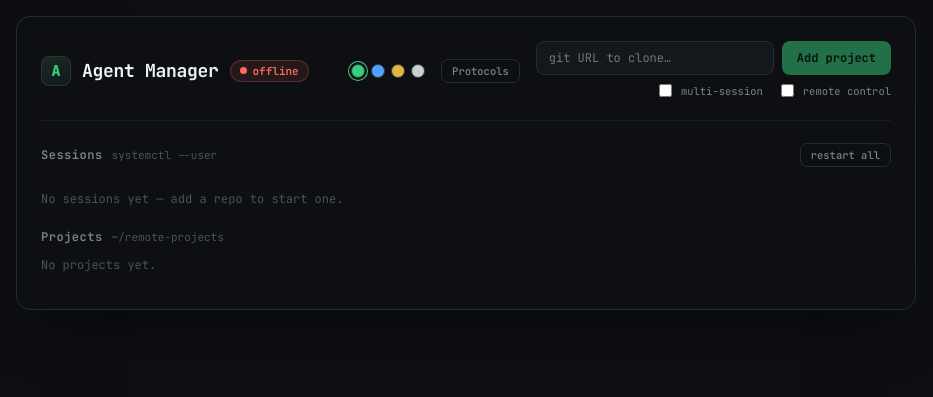
Test case: an existing same-repo folder offers both reuse and replace
Type "https://example.com/foo.git" into the field with placeholder "git URL to clone…" at coordinates (655, 58), box [536,41,774,75]
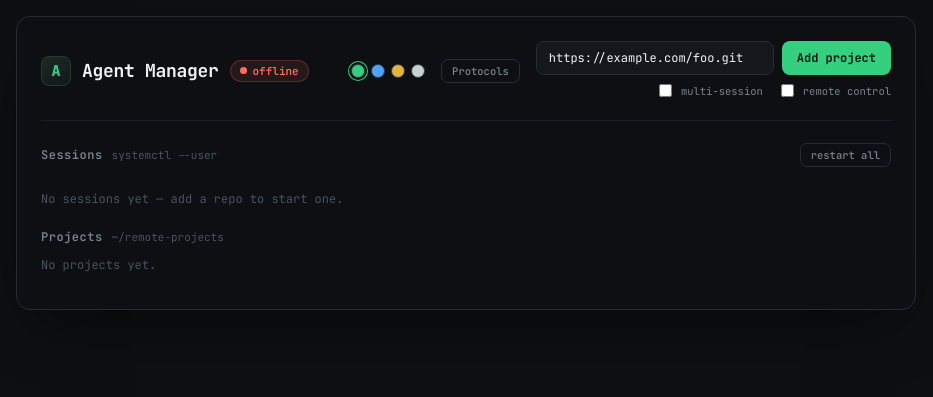
Click the button "Add project" at coordinates (836, 58), box [782,41,891,75]
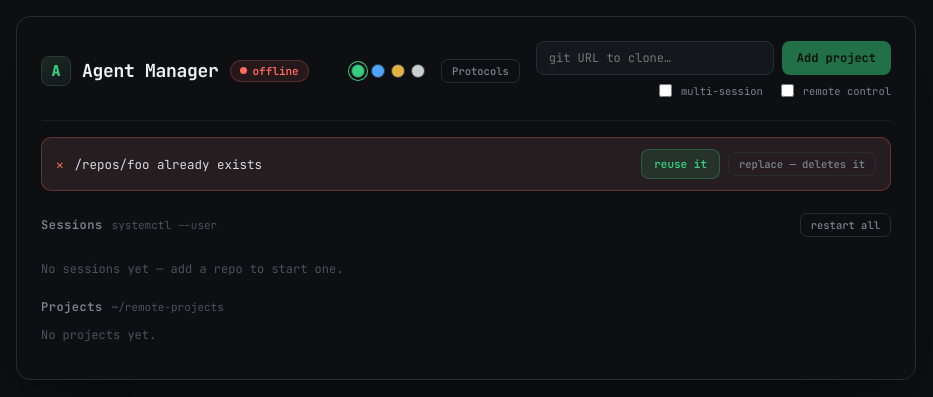
Expected: the button "reuse it" is shown, [641,149,720,179]
Expected: the button "replace — deletes it" is shown, [728,152,876,176]
